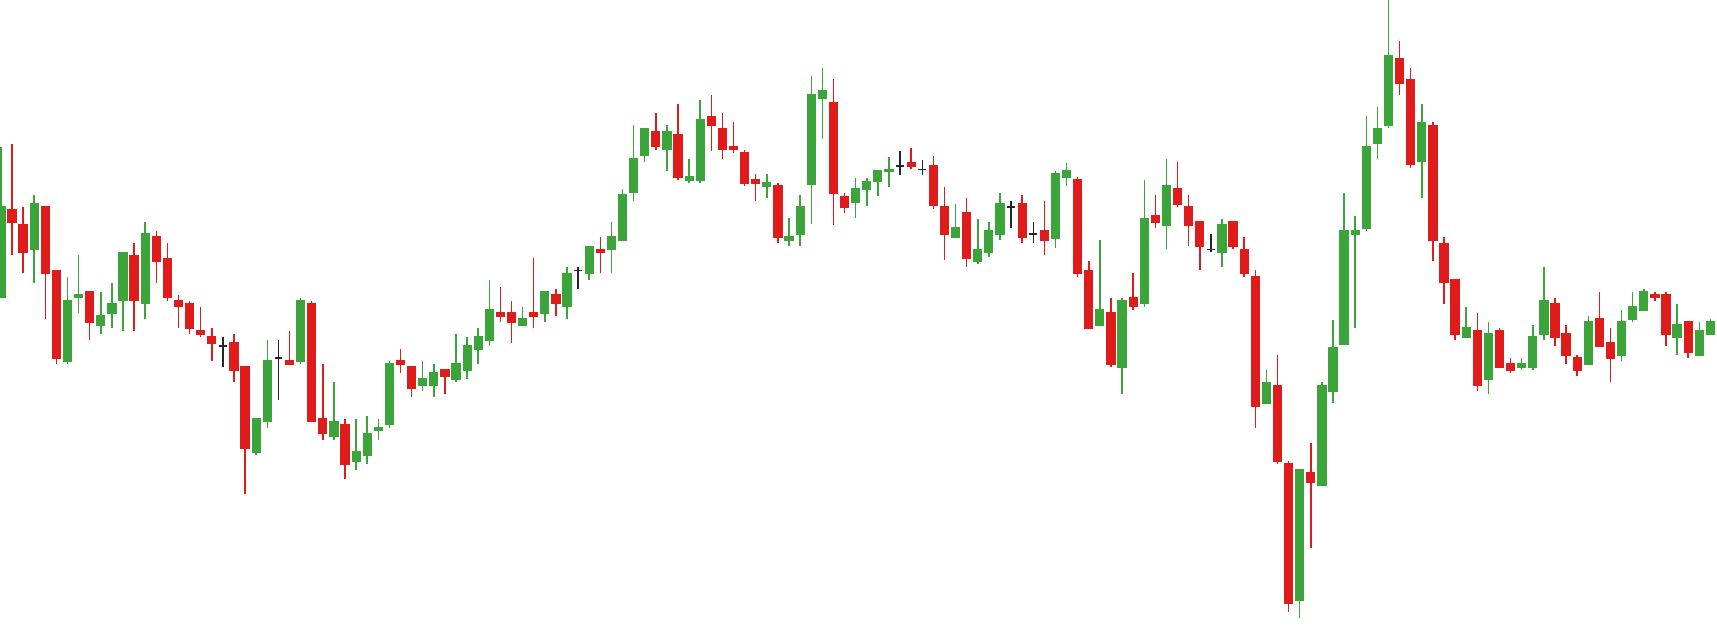sell: (692, 66, 841, 204), (1048, 155, 1185, 265)
